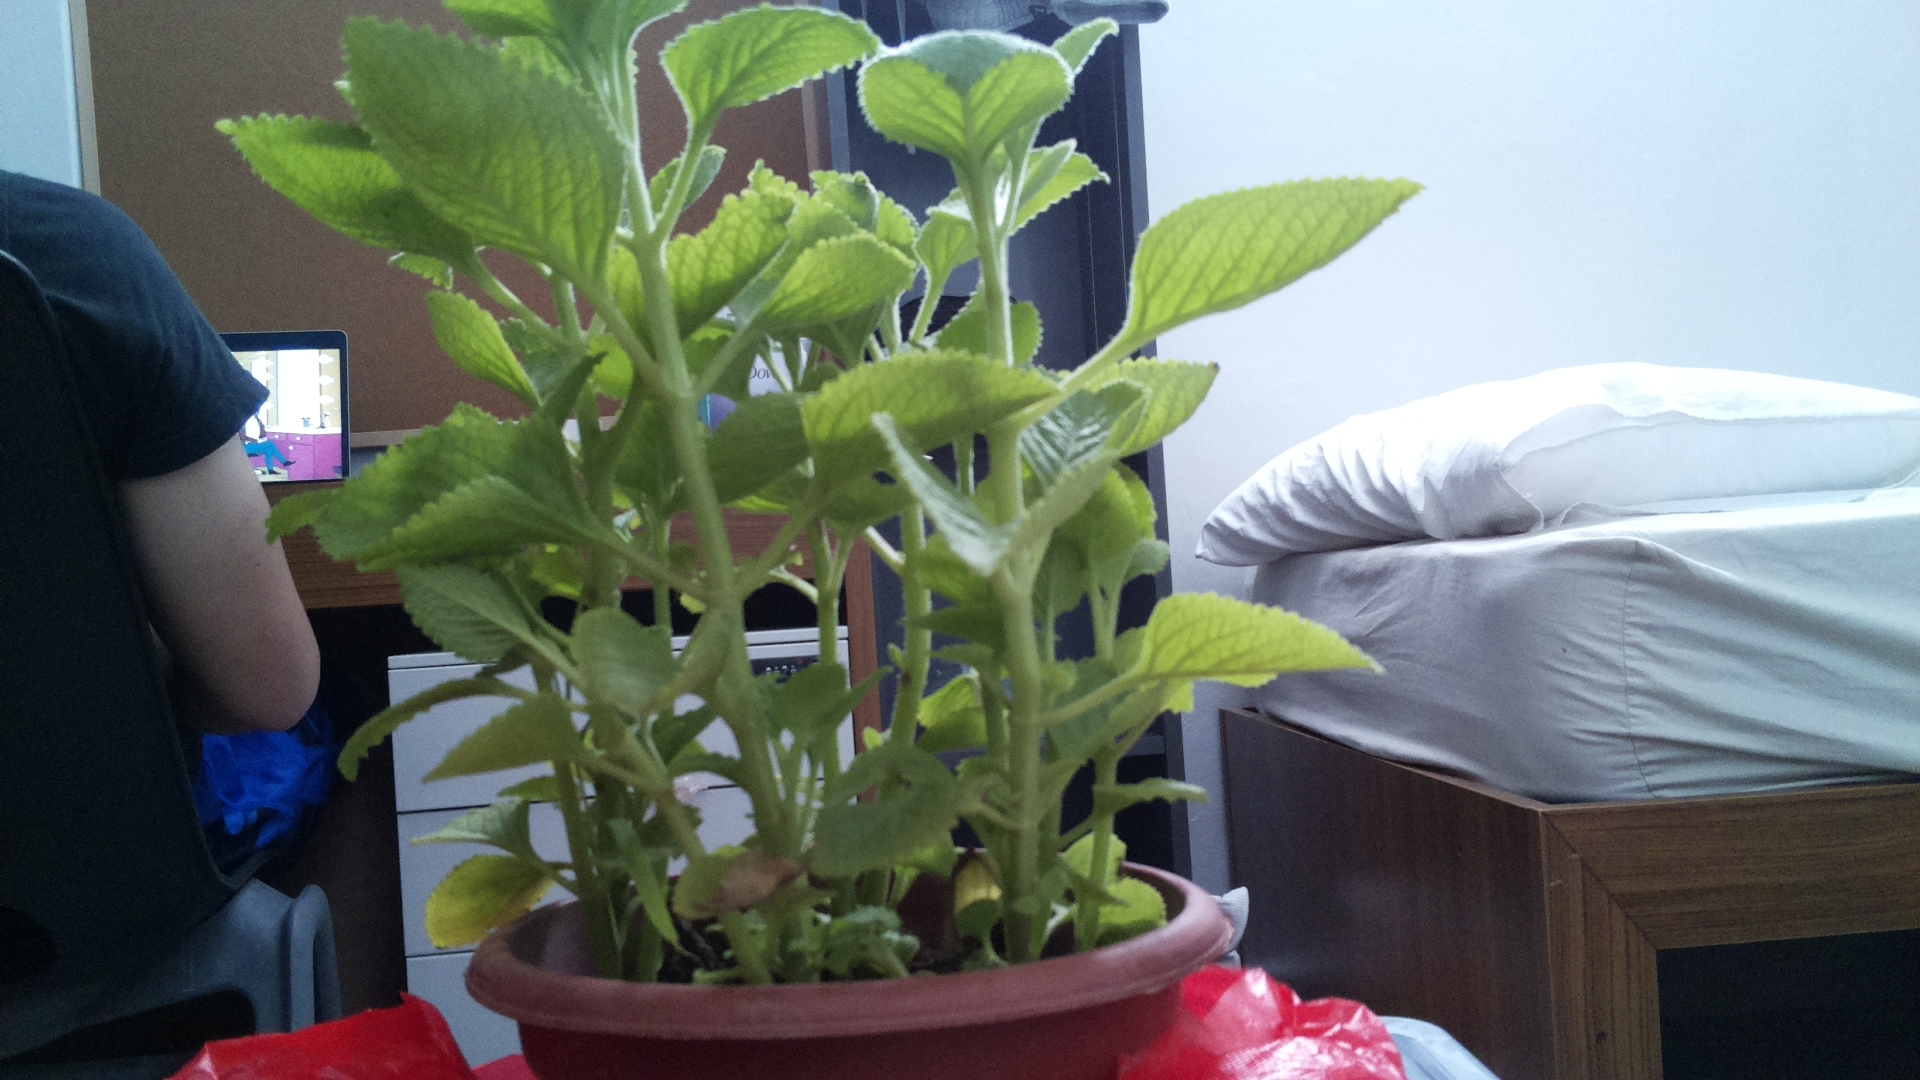leaf: (336, 32, 626, 302), (1101, 154, 1427, 351), (293, 421, 576, 575), (215, 105, 487, 262), (795, 343, 1058, 498), (655, 3, 881, 141), (845, 34, 1069, 166), (1139, 578, 1389, 690), (793, 756, 1000, 882), (1067, 351, 1249, 495), (324, 663, 531, 783), (568, 593, 720, 727), (429, 285, 579, 413), (749, 231, 916, 339), (659, 193, 789, 323), (415, 853, 559, 957), (386, 560, 531, 663), (405, 786, 543, 858)
